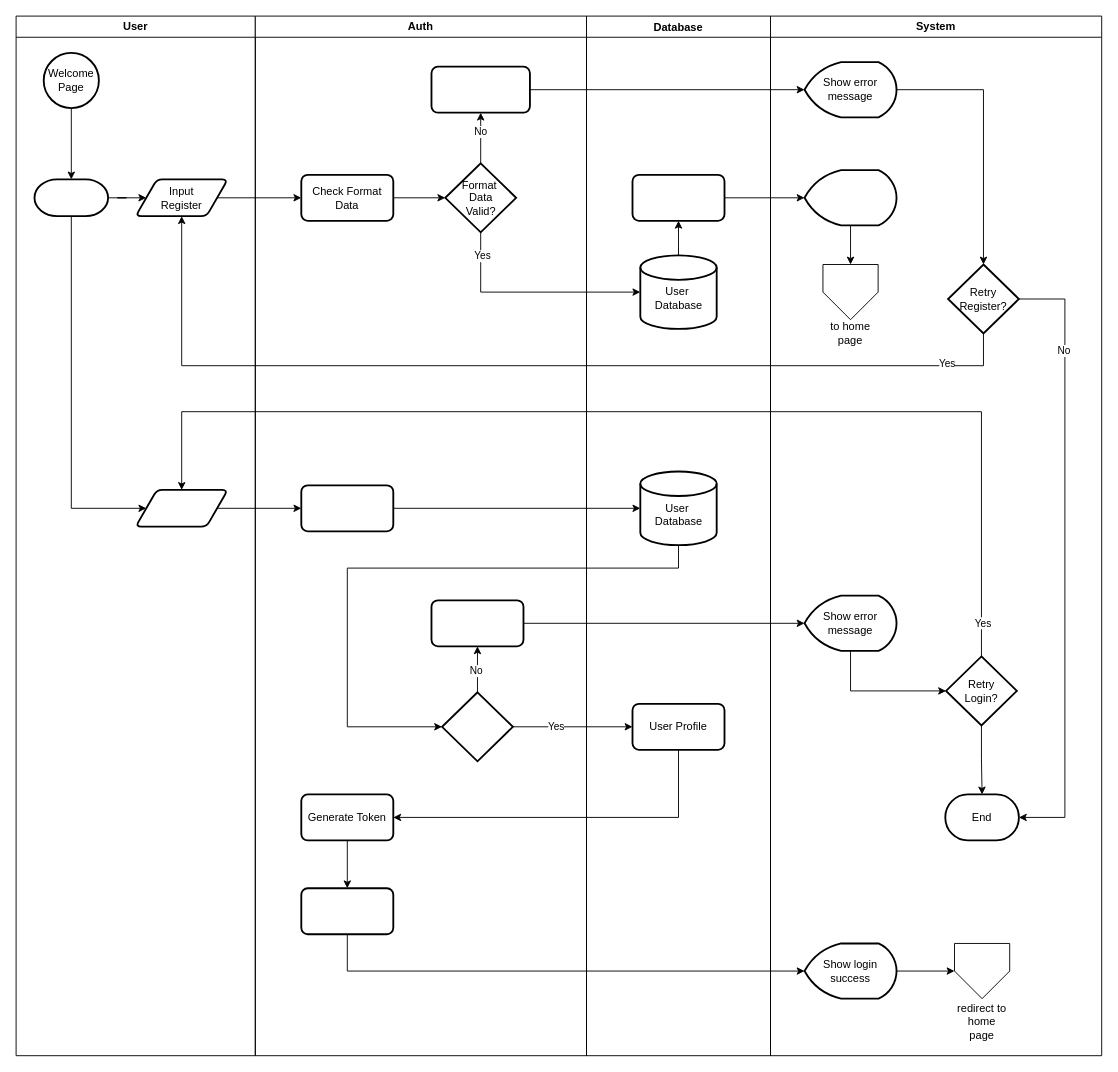
This 1118x1072 diagram has some shape labels left out. The shapes that lost their labels are listed below. From the top down, each one's centre as x and y in pixels, then its label:
At point 480,89: "Register Failed".
At point 71,197: "Start".
At point 678,197: "Persisting User Data".
At point 850,197: "Show register success".
At point 181,508: "Input Login".
At point 347,508: "Check Credential".
At point 477,623: "Login Failed".
At point 477,726: "Credential valid?".
At point 347,911: "Logged In".
